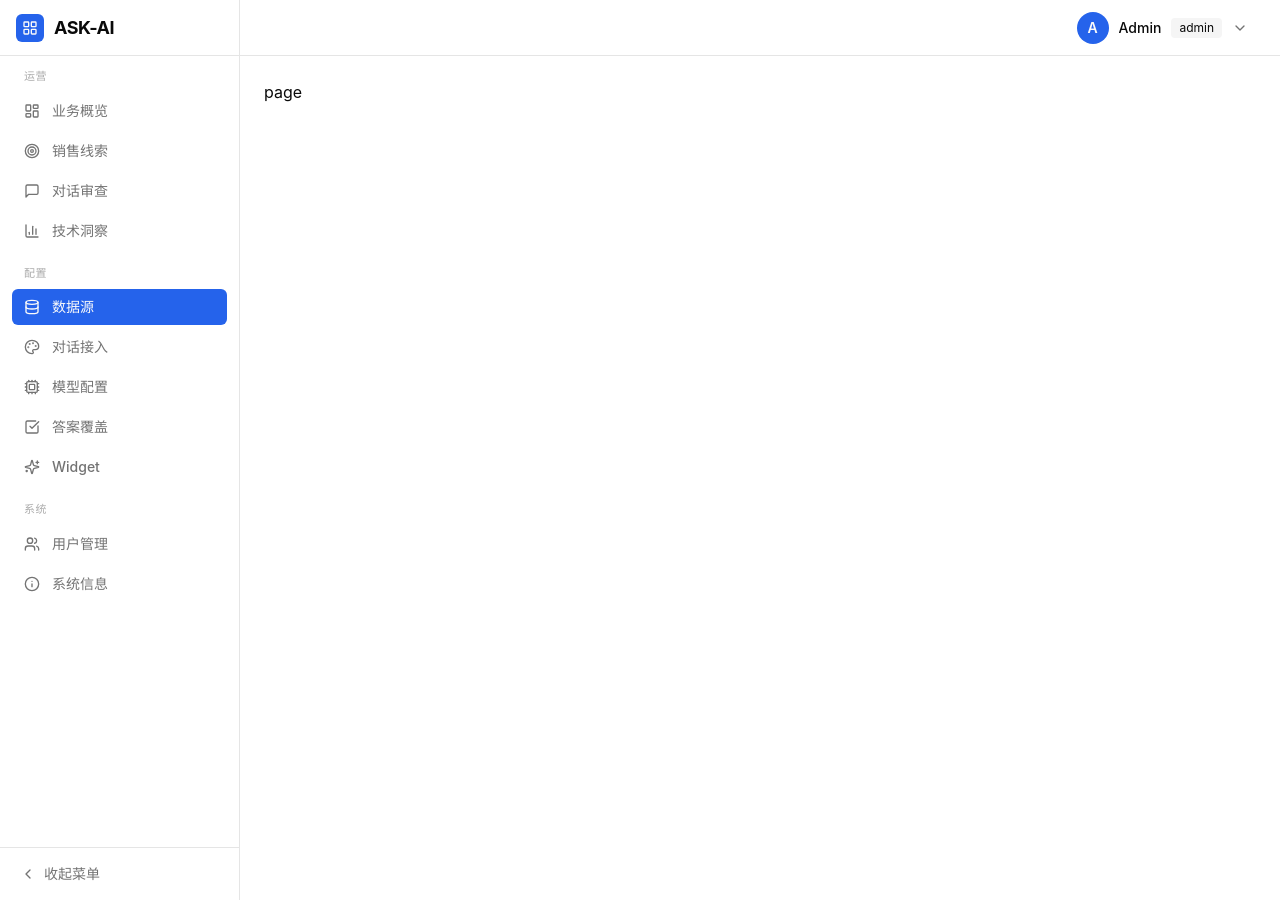
U-4(SH-12):侧栏收起/展开(纯 Admin shell) › 默认展开;点击收起 → 布局重排(导航标签隐藏,展开控件在位)
The width and height of the screenshot is (1280, 900).
expect the link "数据源" is shown: met, box x1=12 y1=289 x2=227 y2=325
What coordinates should you click on to do the following:
click the button "收起菜单"
I would click on:
 (120, 874)
Its box is x1=8 y1=856 x2=231 y2=892.
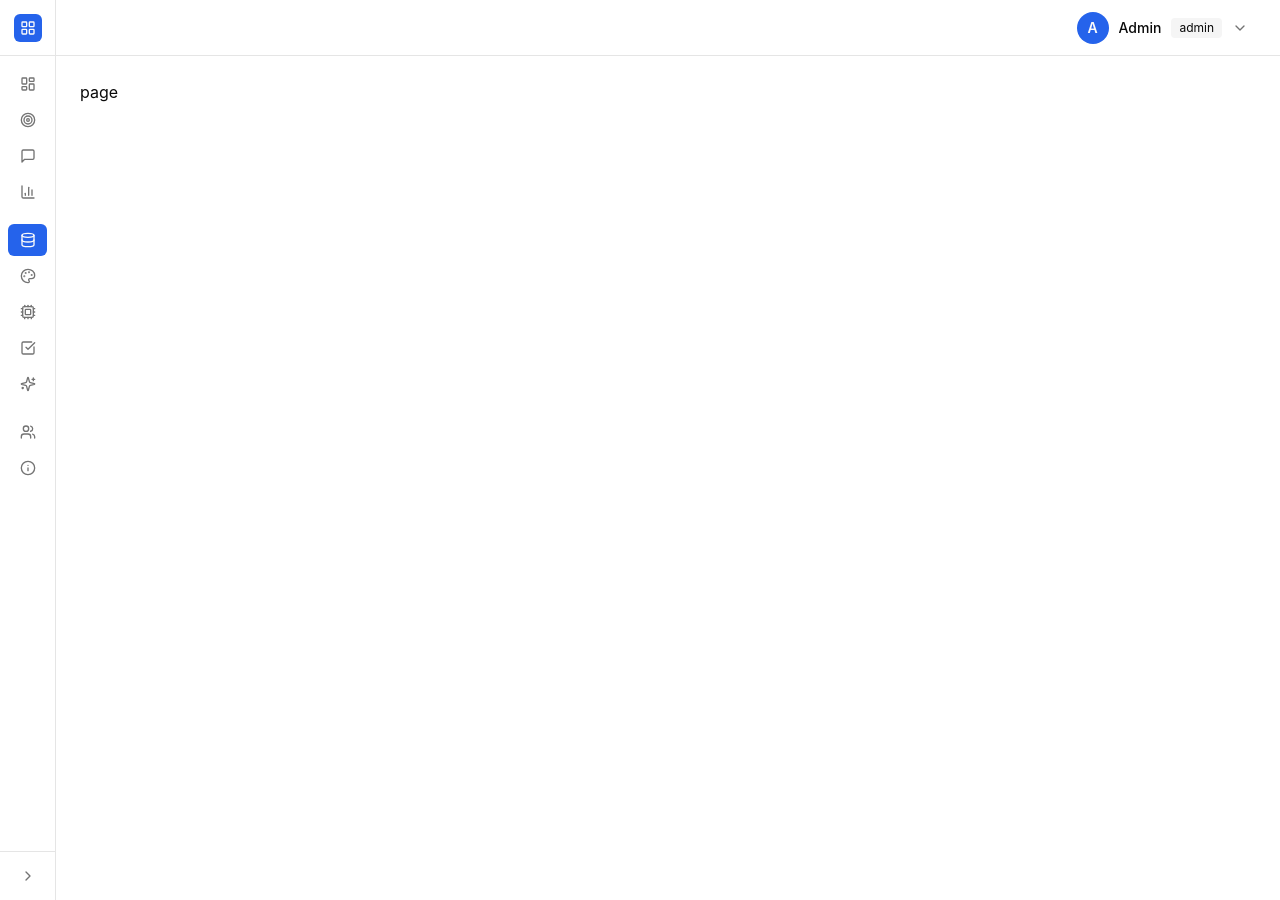
expect the link "数据源" is gone: met
expect the button named "展开菜单" is shown: met, box x1=4 y1=860 x2=51 y2=892
